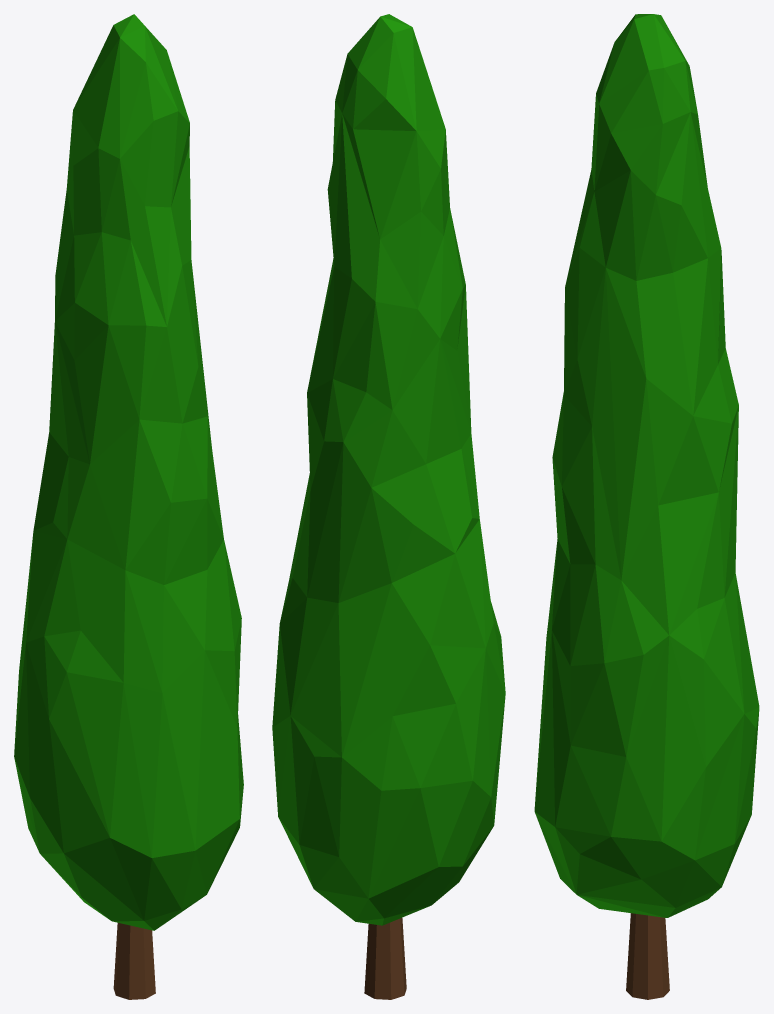
Rendered from cypressTreeD.fbx.
The picture shows the model from 3 angles, left to right: view 1: azimuth 30°, elevation 25°; view 2: azimuth 150°, elevation 25°; view 3: azimuth 270°, elevation 25°; orthographic projection.
Visible parts, largest first — view 1: cypressTreeD_geo; view 2: cypressTreeD_geo; view 3: cypressTreeD_geo.
Part boxes in pixels (box(x1,y1,x2,y2)): cypressTreeD_geo: box(14, 14, 243, 999); cypressTreeD_geo: box(272, 14, 505, 999); cypressTreeD_geo: box(534, 14, 759, 999).
Bounding box in the file's own units: 291 × 1325 × 276.
